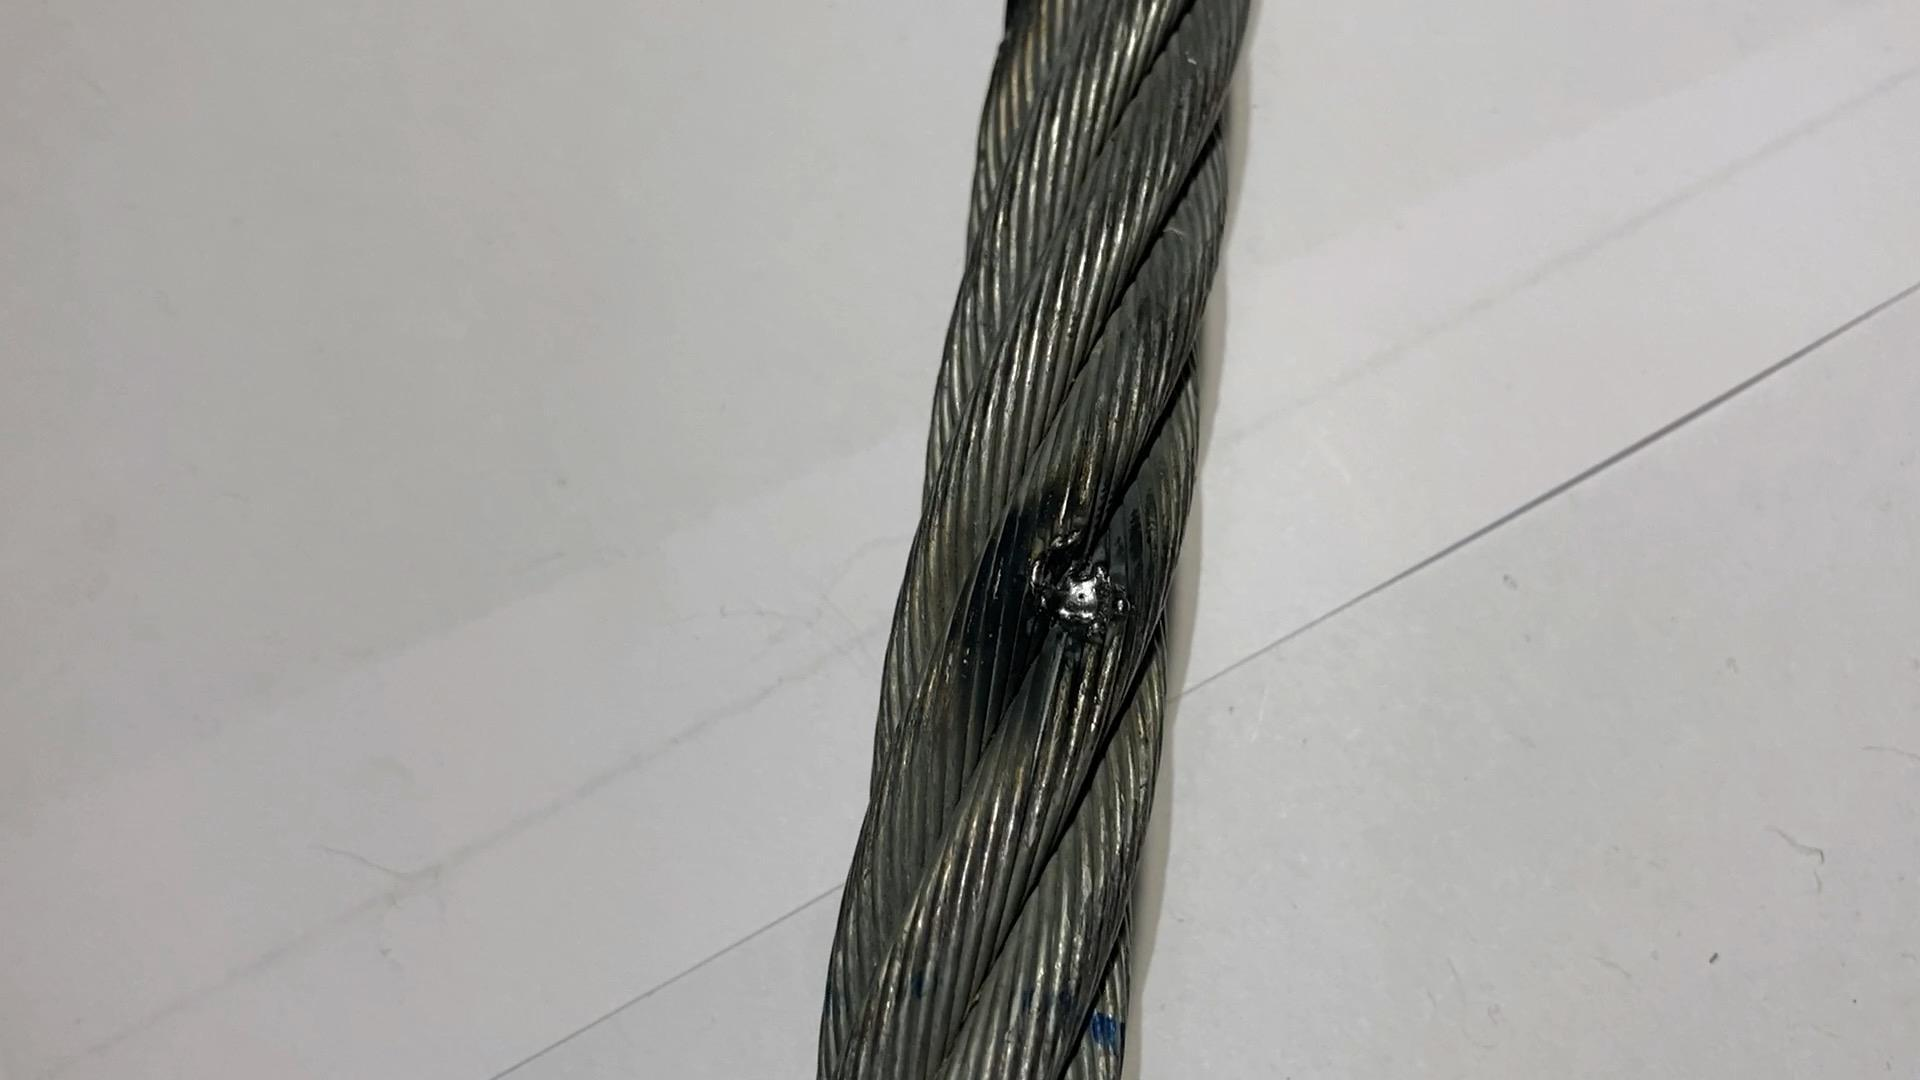thunderbolt: (1011, 487, 1134, 641)
